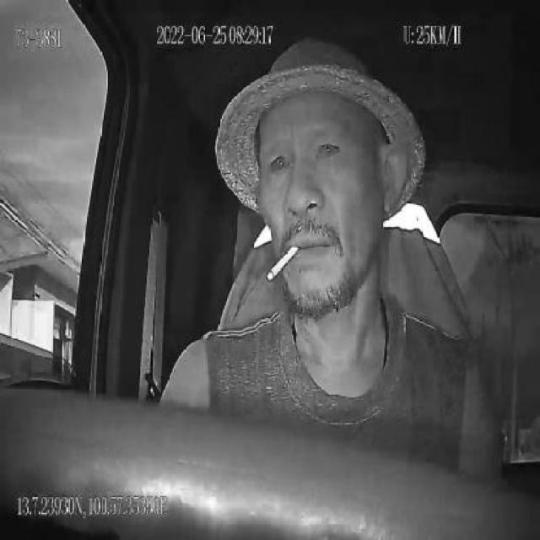smoking: (268, 244, 302, 286)
